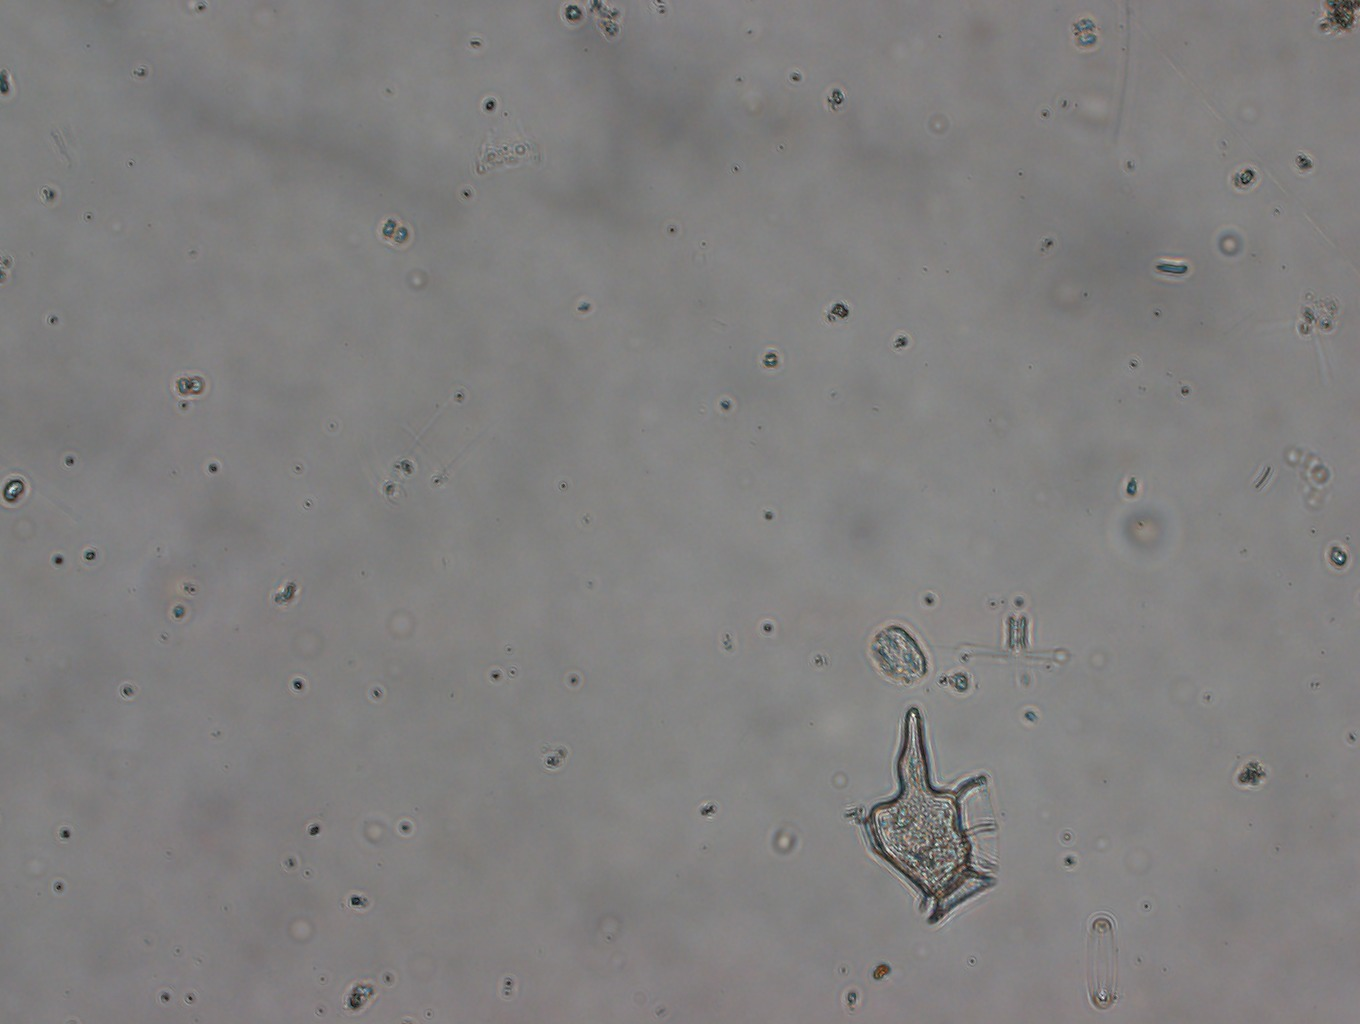dinophysis caudata: (863, 705, 1003, 926)
